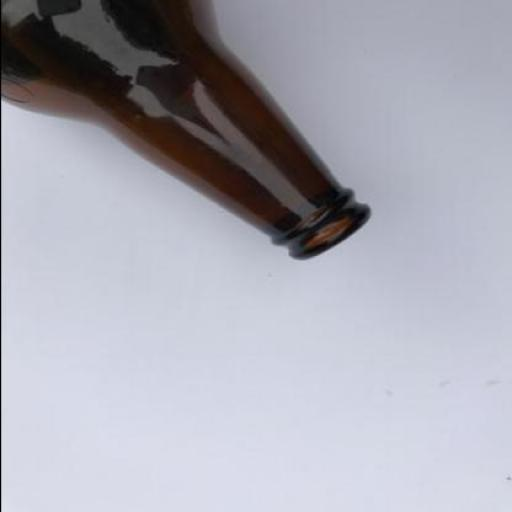glass: (1, 1, 372, 260)
